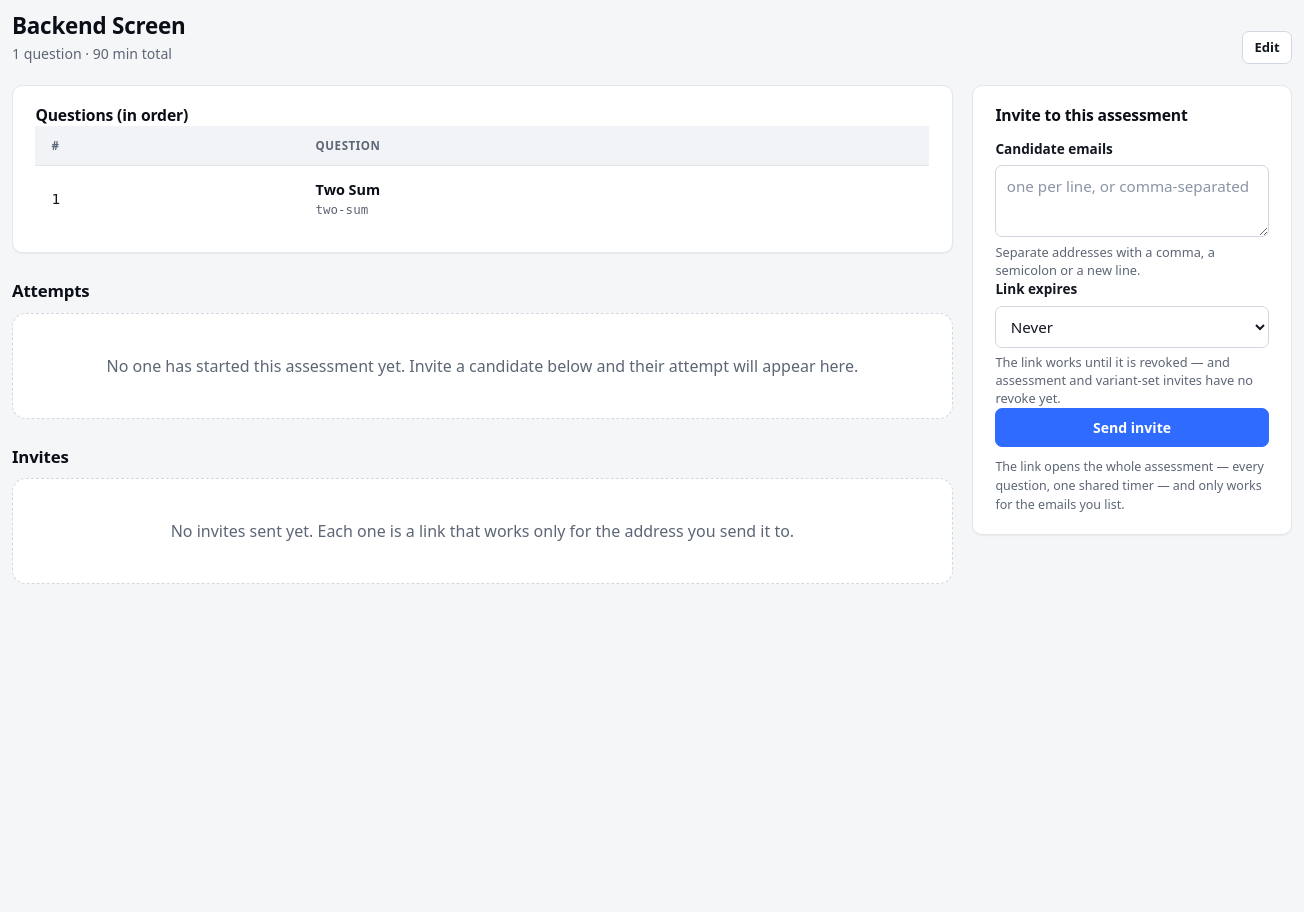
Test case: AssessmentDetailPage — invite delivery (A4) › warns when the invite was created but the email did not send
Expected: the heading "Backend Screen" is shown, [12,12,186,40]
Type "candidate@example.com" into the text box labelled "Candidate emails" at (1132, 201), box [995,165,1269,237]
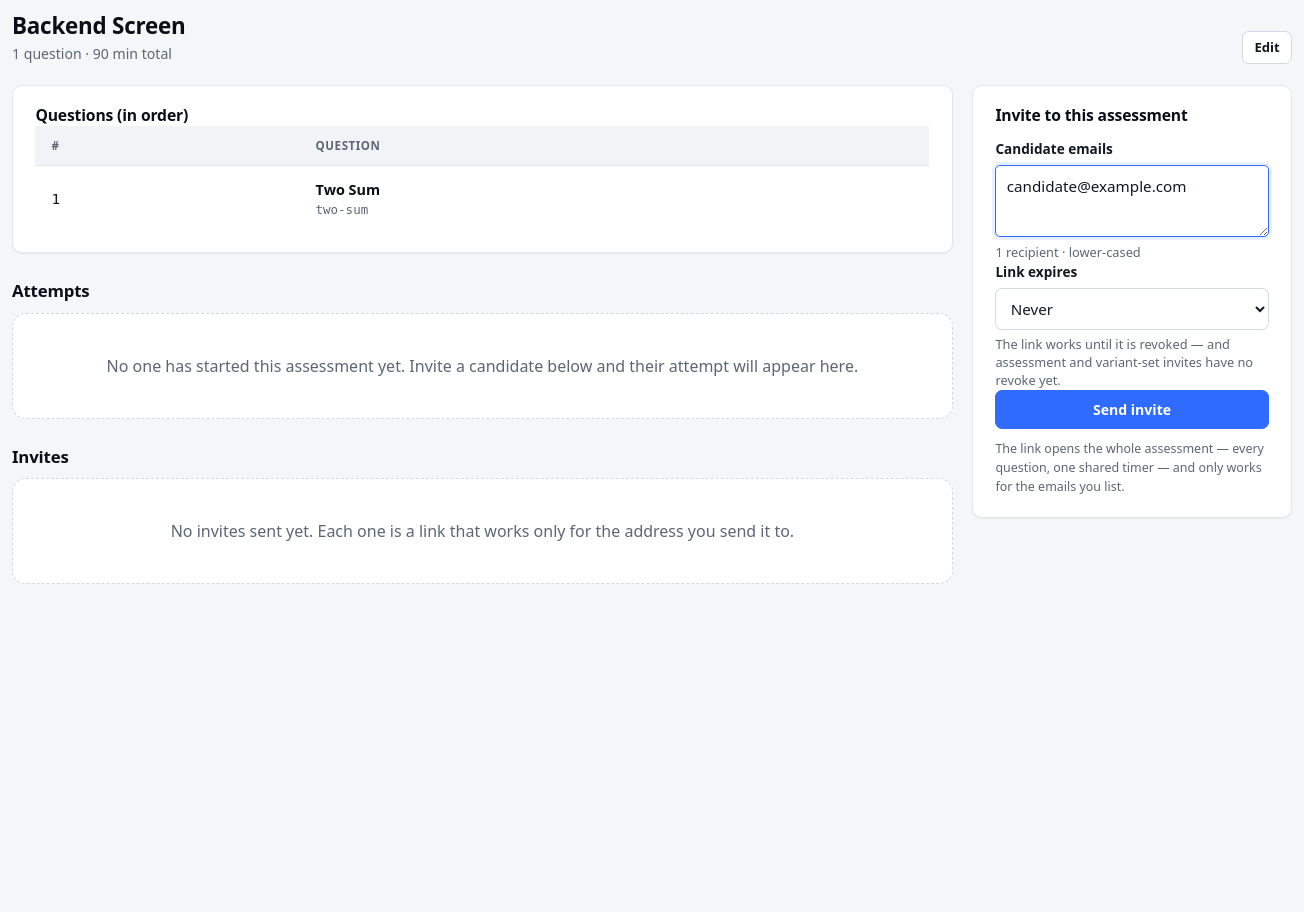
Click the button "Send invite" at (1132, 410), box [995,390,1269,429]
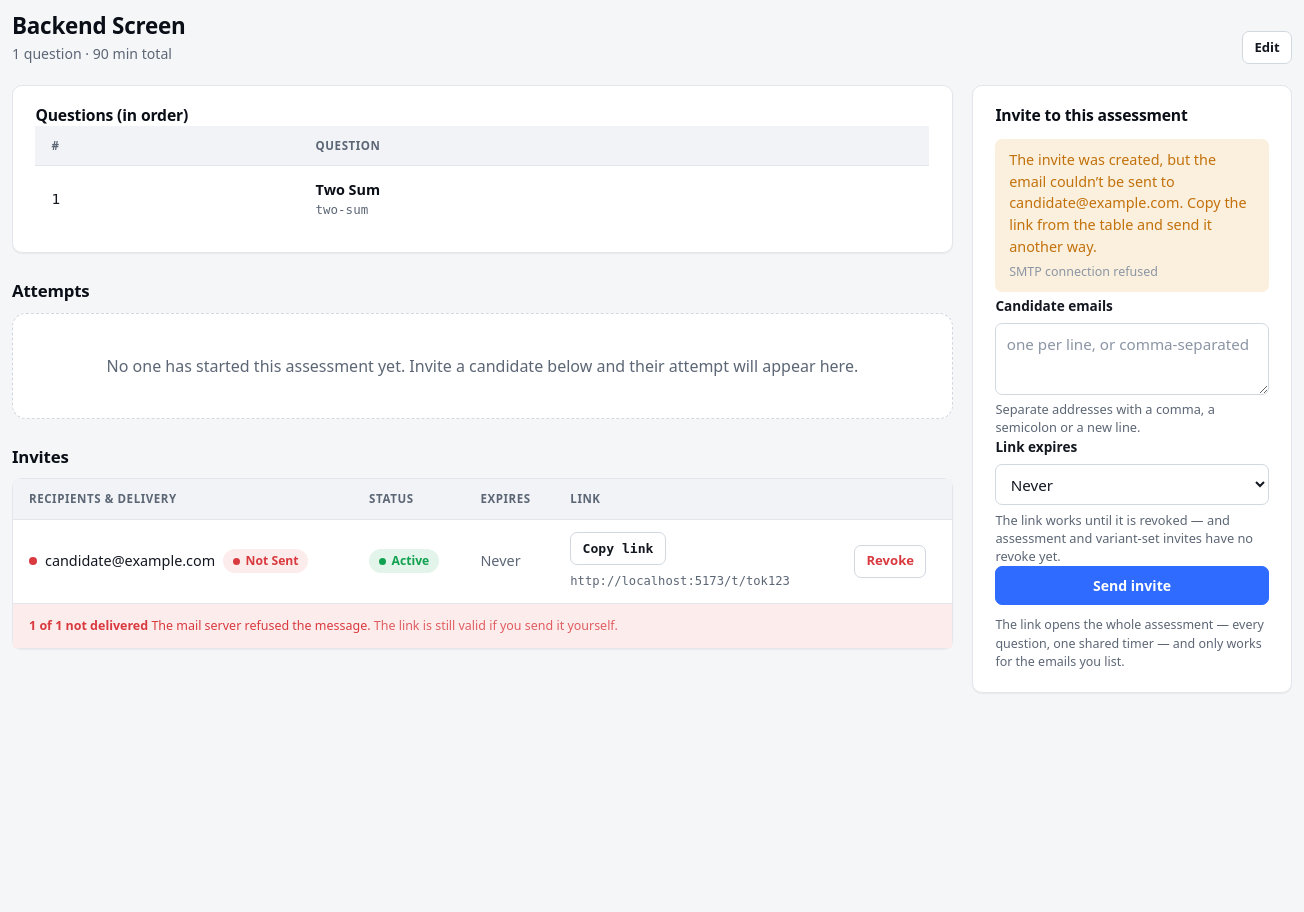
Result: the message shows "couldn’t be sent to candidate@example.com" at [995,138,1269,292]
Result: the message shows "SMTP connection refused" at [1009,263,1158,280]
